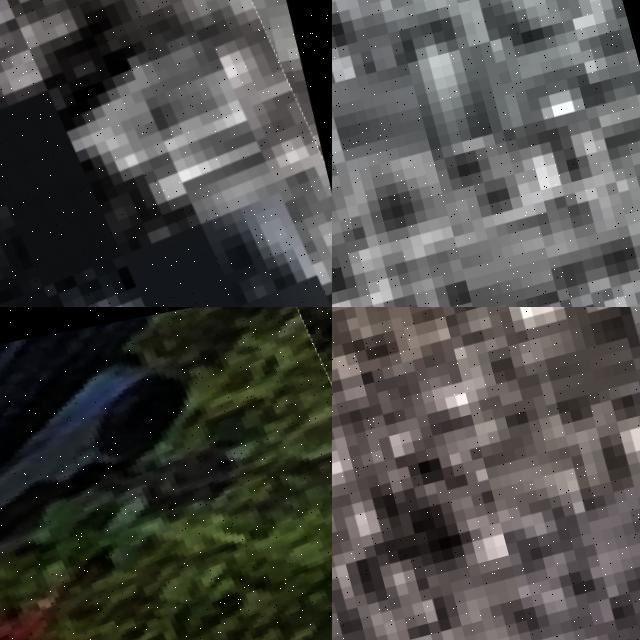drone: (0, 307, 332, 640), (0, 0, 332, 307)
